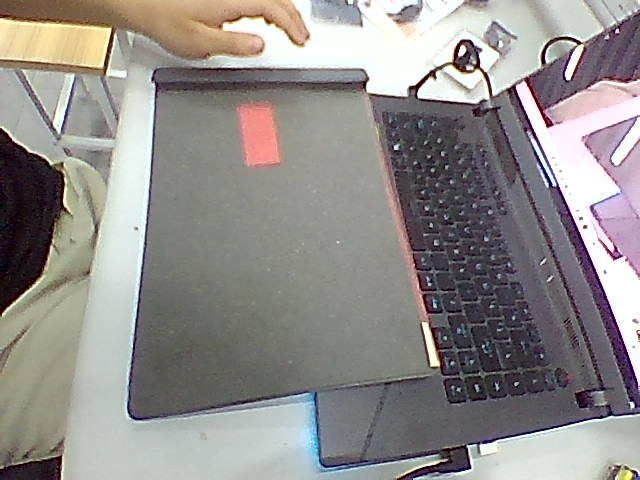card: (237, 105, 278, 166)
